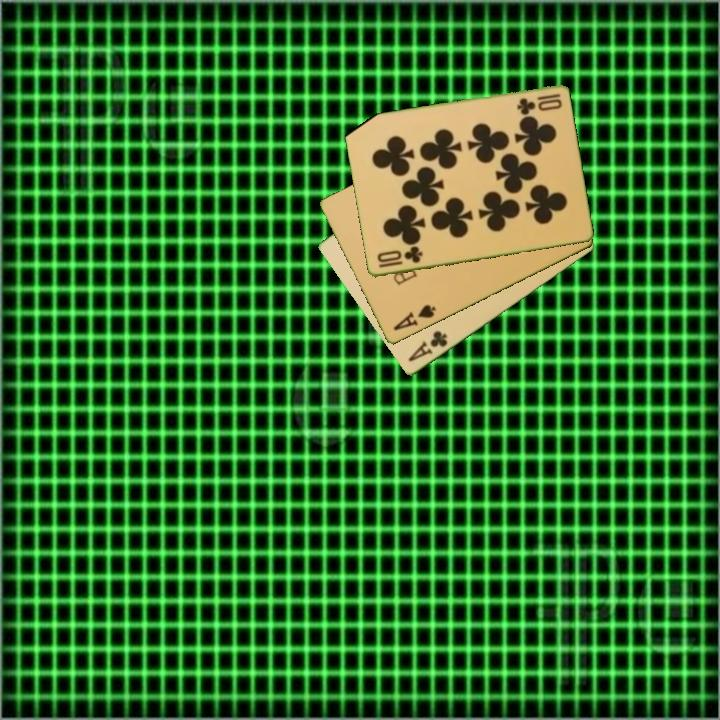10c: (373, 244, 425, 271), (513, 91, 565, 116)
Ac: (405, 327, 451, 365)
As: (389, 301, 439, 334)
